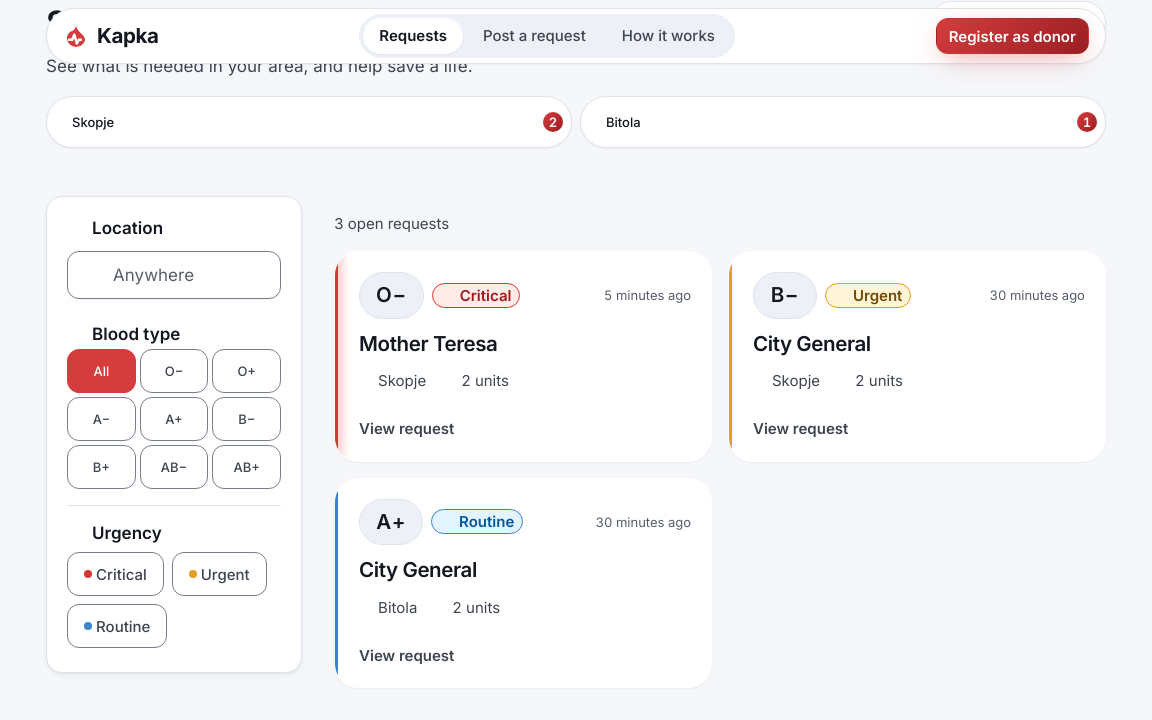
Test: the public feed › counts the whole feed in the stat strip, not the filtered view
The width and height of the screenshot is (1152, 720).
(page scrolled)
Click the button "Critical" at (115, 574), box [67, 552, 164, 596]
(page scrolled)
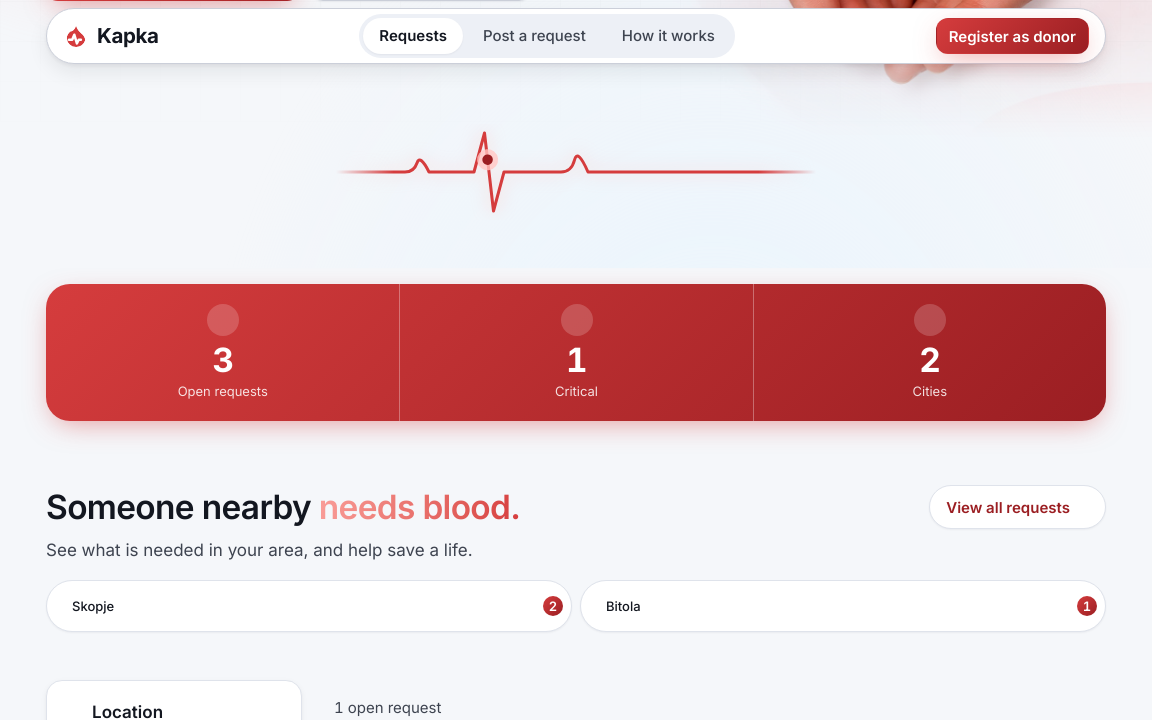
Expected: the text "3" is shown, [212, 344, 233, 377]
Now the text "1 open request" is shown, box [334, 698, 441, 717]
